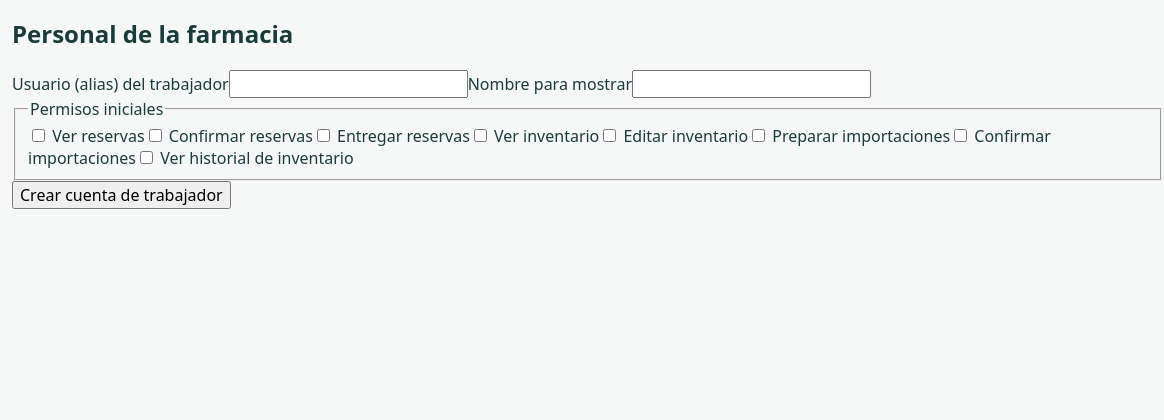
Test case: F01.1 US1: pantalla «Personal de la farmacia» › al cambiar de farmacia descarta la clave temporal mostrada
Expected: the heading "Personal de la farmacia" is shown, [12,17,293,50]
Type "alfa.caja1" into the field labelled "Usuario (alias) del trabajador" at (348, 84), box [229,70,468,98]
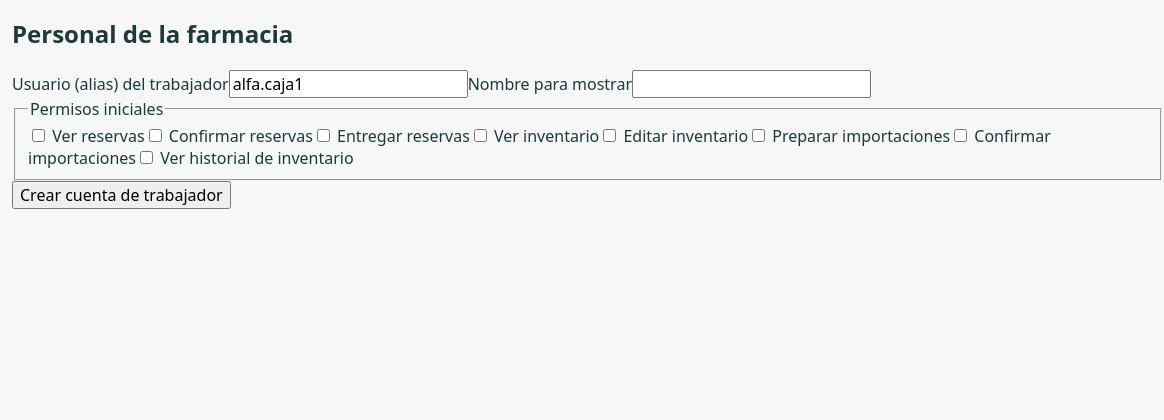
Type "Caja" into the field labelled "Nombre para mostrar" at (752, 84), box [632,70,871,98]
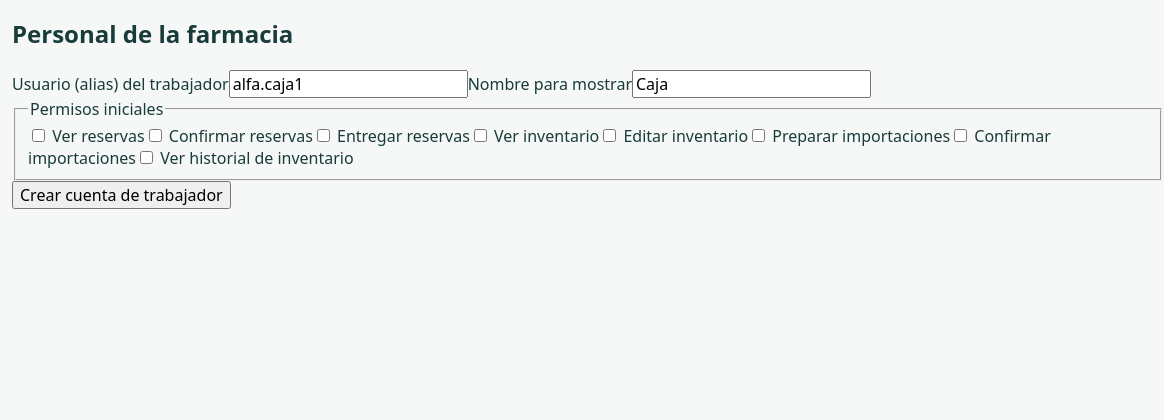
Submit the text "Crear cuenta de trabajador", box [12,70,1163,209]
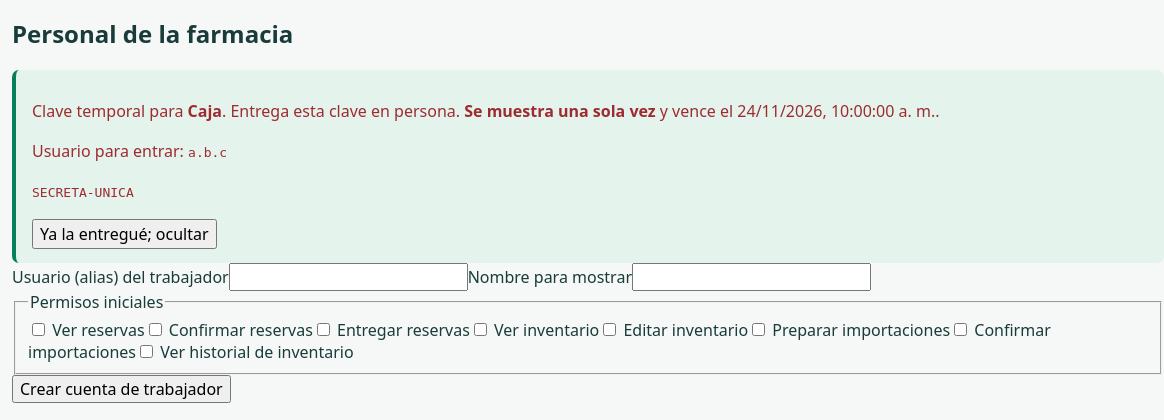
Expected: the text named "Clave temporal" is shown, [32,185,134,200]
